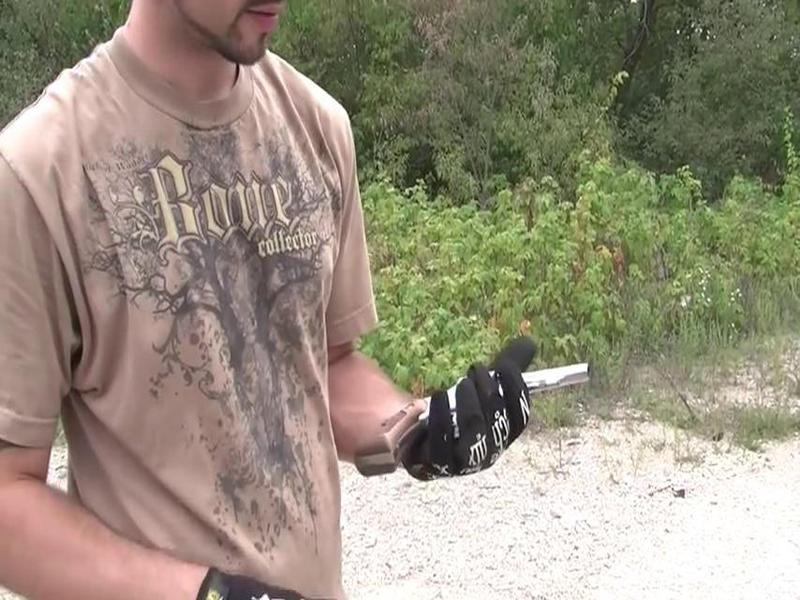Revolver: (336, 331, 614, 492)
